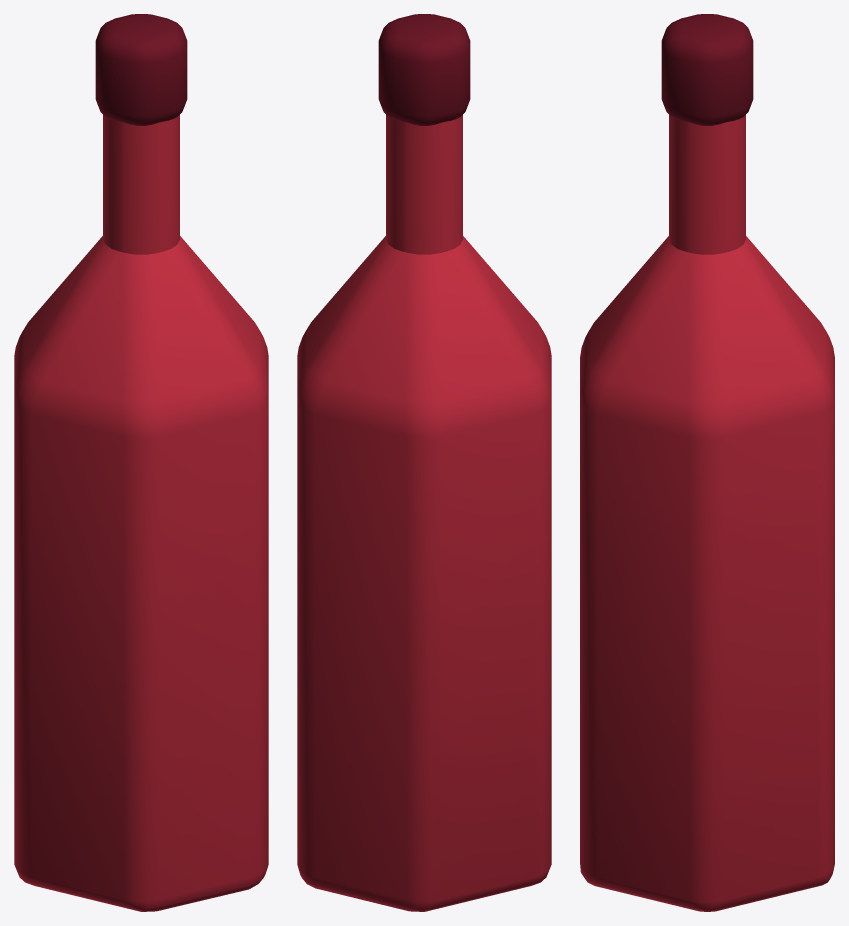
File: tekşişe.fbx
3 renders of one model, left to right at view 1: azimuth 30°, elevation 25°; view 2: azimuth 150°, elevation 25°; view 3: azimuth 270°, elevation 25°, orthographic.
Parts seen in each view (by area): view 1: land_07.008; view 2: land_07.008; view 3: land_07.008.
Boxes of the visible parts, x1,y1,x2,y2 form: land_07.008: (14, 14, 268, 911); land_07.008: (297, 14, 551, 911); land_07.008: (580, 14, 834, 911).
Bounding box in the file's own units: 54.54 × 178 × 49.51.
